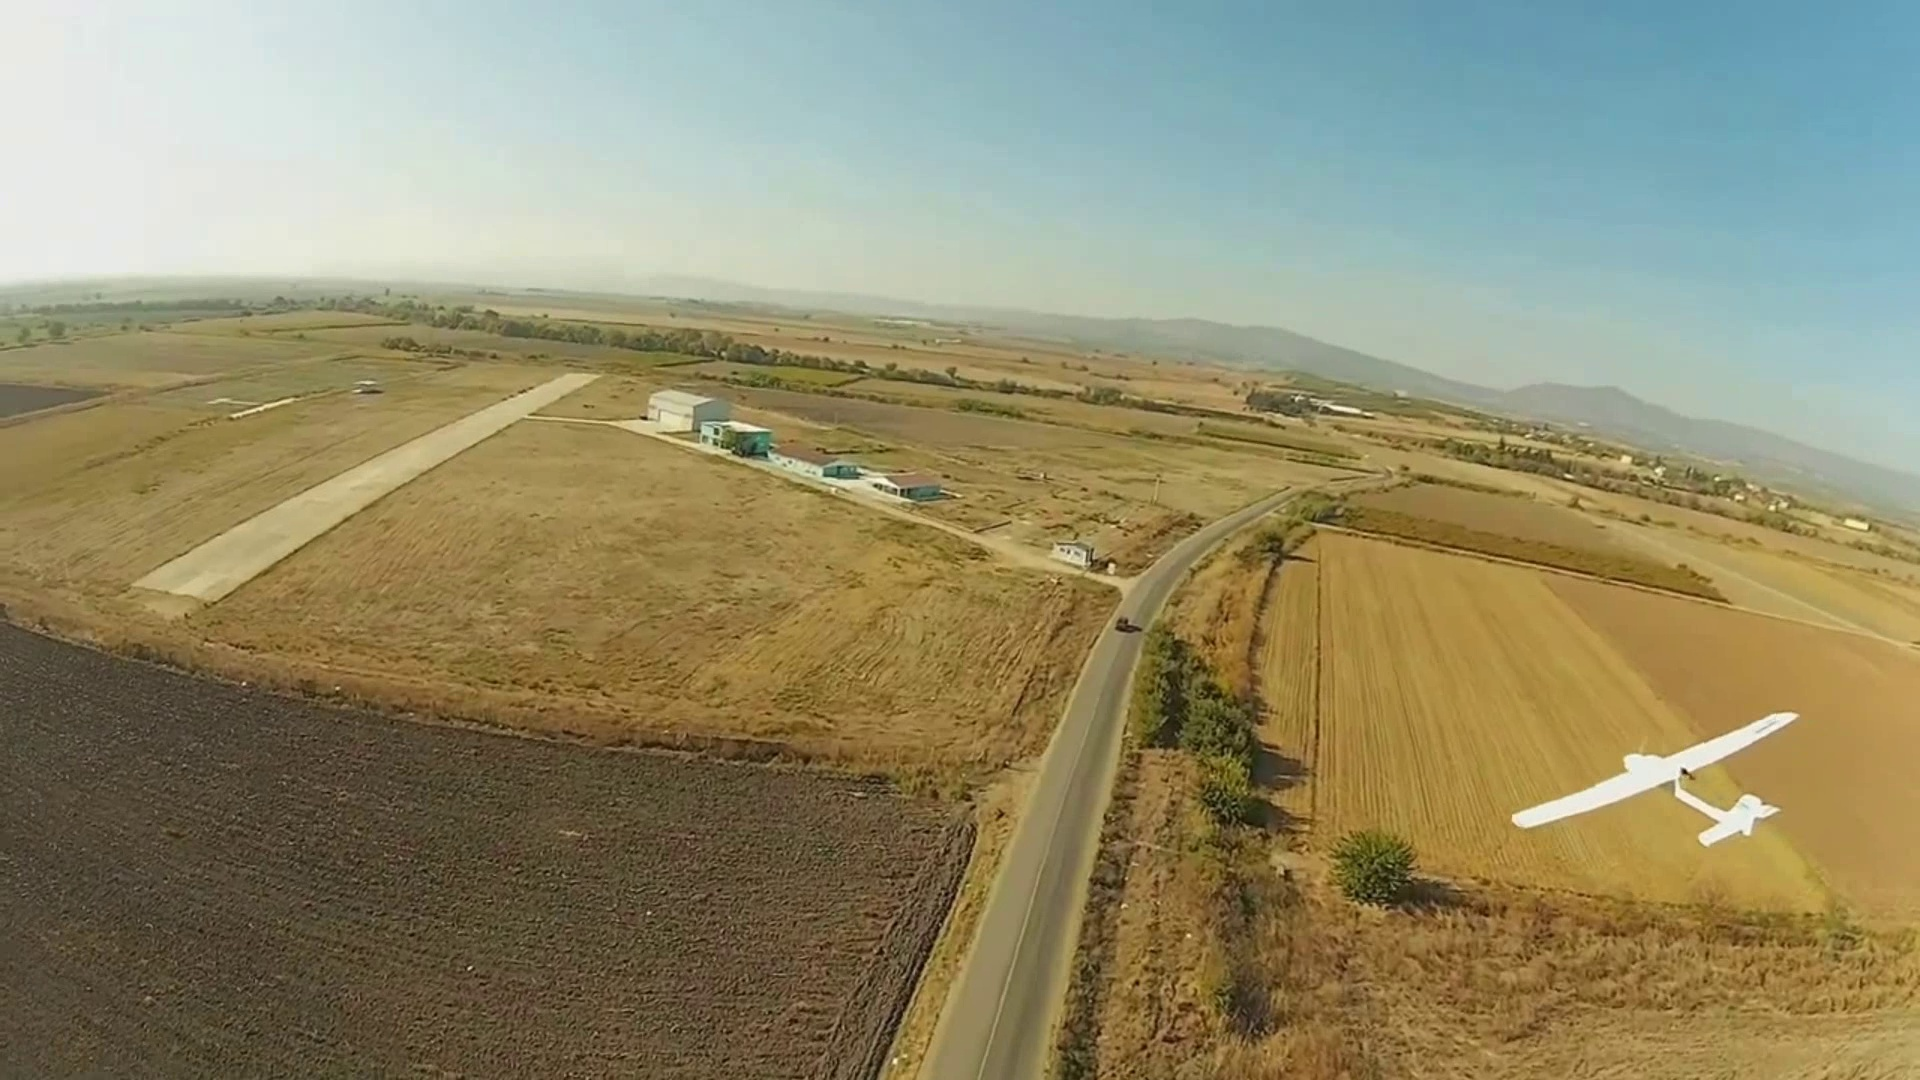airplane: (1511, 709, 1800, 848)
